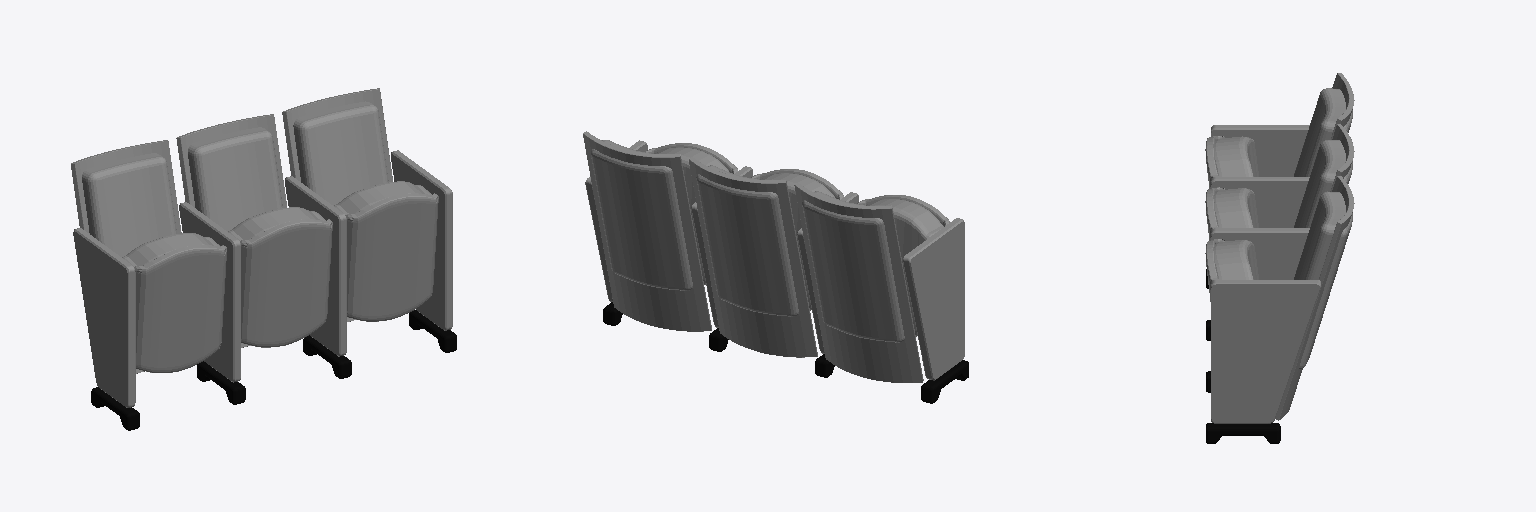
The model's file is theater-chair.obj.
3 renders of one model, left to right at view 1: azimuth 30°, elevation 25°; view 2: azimuth 150°, elevation 25°; view 3: azimuth 270°, elevation 25°, orthographic.
Visible parts, largest first — view 1: ChamferBo5, ChamferBo9, ChamferBo1, Line01, ChamferB11, ChamferBo7, ChamferBo3, Line06, Line04, Line02, ChamferB10, ChamferBo2 (+8 smaller); view 2: ChamferB11, ChamferBo7, ChamferBo3, Line01, ChamferB10, ChamferBo6, ChamferBo2, ChamferBo4, ChamferBo8, ChamferB12, ChamferBo0, Line06 (+2 smaller); view 3: Line06, ChamferB11, Line04, Line01, Line02, ChamferBo3, ChamferBo7, ChamferB10, ChamferBo4, ChamferB12, ChamferBo8, ChamferB14 (+2 smaller).
Boxes of the visible parts, x1=… form: ChamferBo5: x1=240, y1=219, x2=332, y2=347; ChamferBo9: x1=345, y1=193, x2=438, y2=321; ChamferBo1: x1=134, y1=245, x2=226, y2=372; Line01: x1=73, y1=228, x2=135, y2=407; ChamferB11: x1=293, y1=101, x2=388, y2=205; ChamferBo7: x1=188, y1=127, x2=282, y2=231; ChamferBo3: x1=82, y1=153, x2=176, y2=256; Line06: x1=391, y1=150, x2=452, y2=330; Line04: x1=285, y1=176, x2=346, y2=356; Line02: x1=179, y1=202, x2=240, y2=382; ChamferB10: x1=282, y1=88, x2=392, y2=321; ChamferBo2: x1=71, y1=140, x2=181, y2=373; ChamferB11: x1=591, y1=140, x2=692, y2=290; ChamferBo7: x1=696, y1=165, x2=798, y2=316; ChamferBo3: x1=802, y1=191, x2=904, y2=342; Line01: x1=903, y1=218, x2=964, y2=380; ChamferB10: x1=583, y1=131, x2=711, y2=331; ChamferBo6: x1=689, y1=157, x2=817, y2=357; ChamferBo2: x1=794, y1=183, x2=923, y2=382; ChamferBo4: x1=866, y1=199, x2=943, y2=336; ChamferBo8: x1=761, y1=173, x2=834, y2=310; ChamferB12: x1=656, y1=147, x2=728, y2=284; ChamferBo0: x1=921, y1=360, x2=968, y2=403; Line06: x1=585, y1=140, x2=647, y2=301; Line06: x1=1211, y1=280, x2=1320, y2=423; ChamferB11: x1=1294, y1=191, x2=1352, y2=369; Line04: x1=1211, y1=228, x2=1309, y2=279; Line01: x1=1211, y1=125, x2=1309, y2=176; Line02: x1=1211, y1=177, x2=1309, y2=227; ChamferBo3: x1=1294, y1=88, x2=1352, y2=176; ChamferBo7: x1=1294, y1=140, x2=1352, y2=227; ChamferB10: x1=1275, y1=176, x2=1354, y2=420; ChamferBo4: x1=1214, y1=136, x2=1258, y2=176; ChamferB12: x1=1214, y1=240, x2=1258, y2=279; ChamferBo8: x1=1214, y1=188, x2=1258, y2=227; ChamferB14: x1=1206, y1=423, x2=1280, y2=443.
Bounding box in the file's own units: 218 × 137 × 85.2.